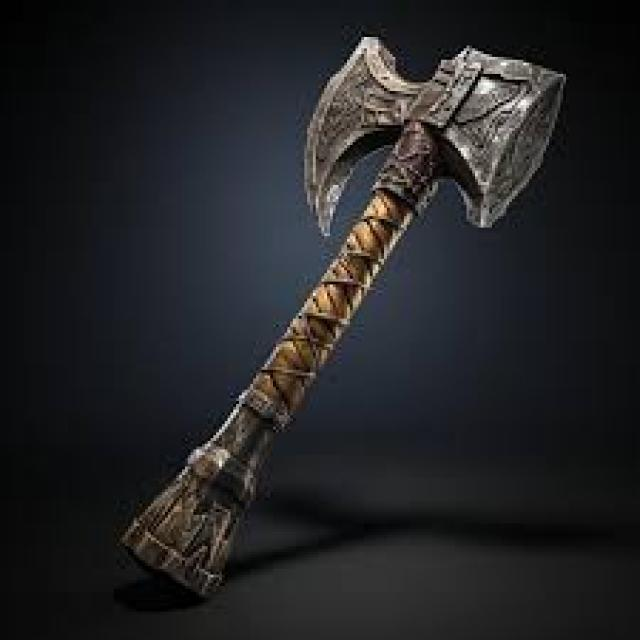Gun: (103, 21, 638, 640)
